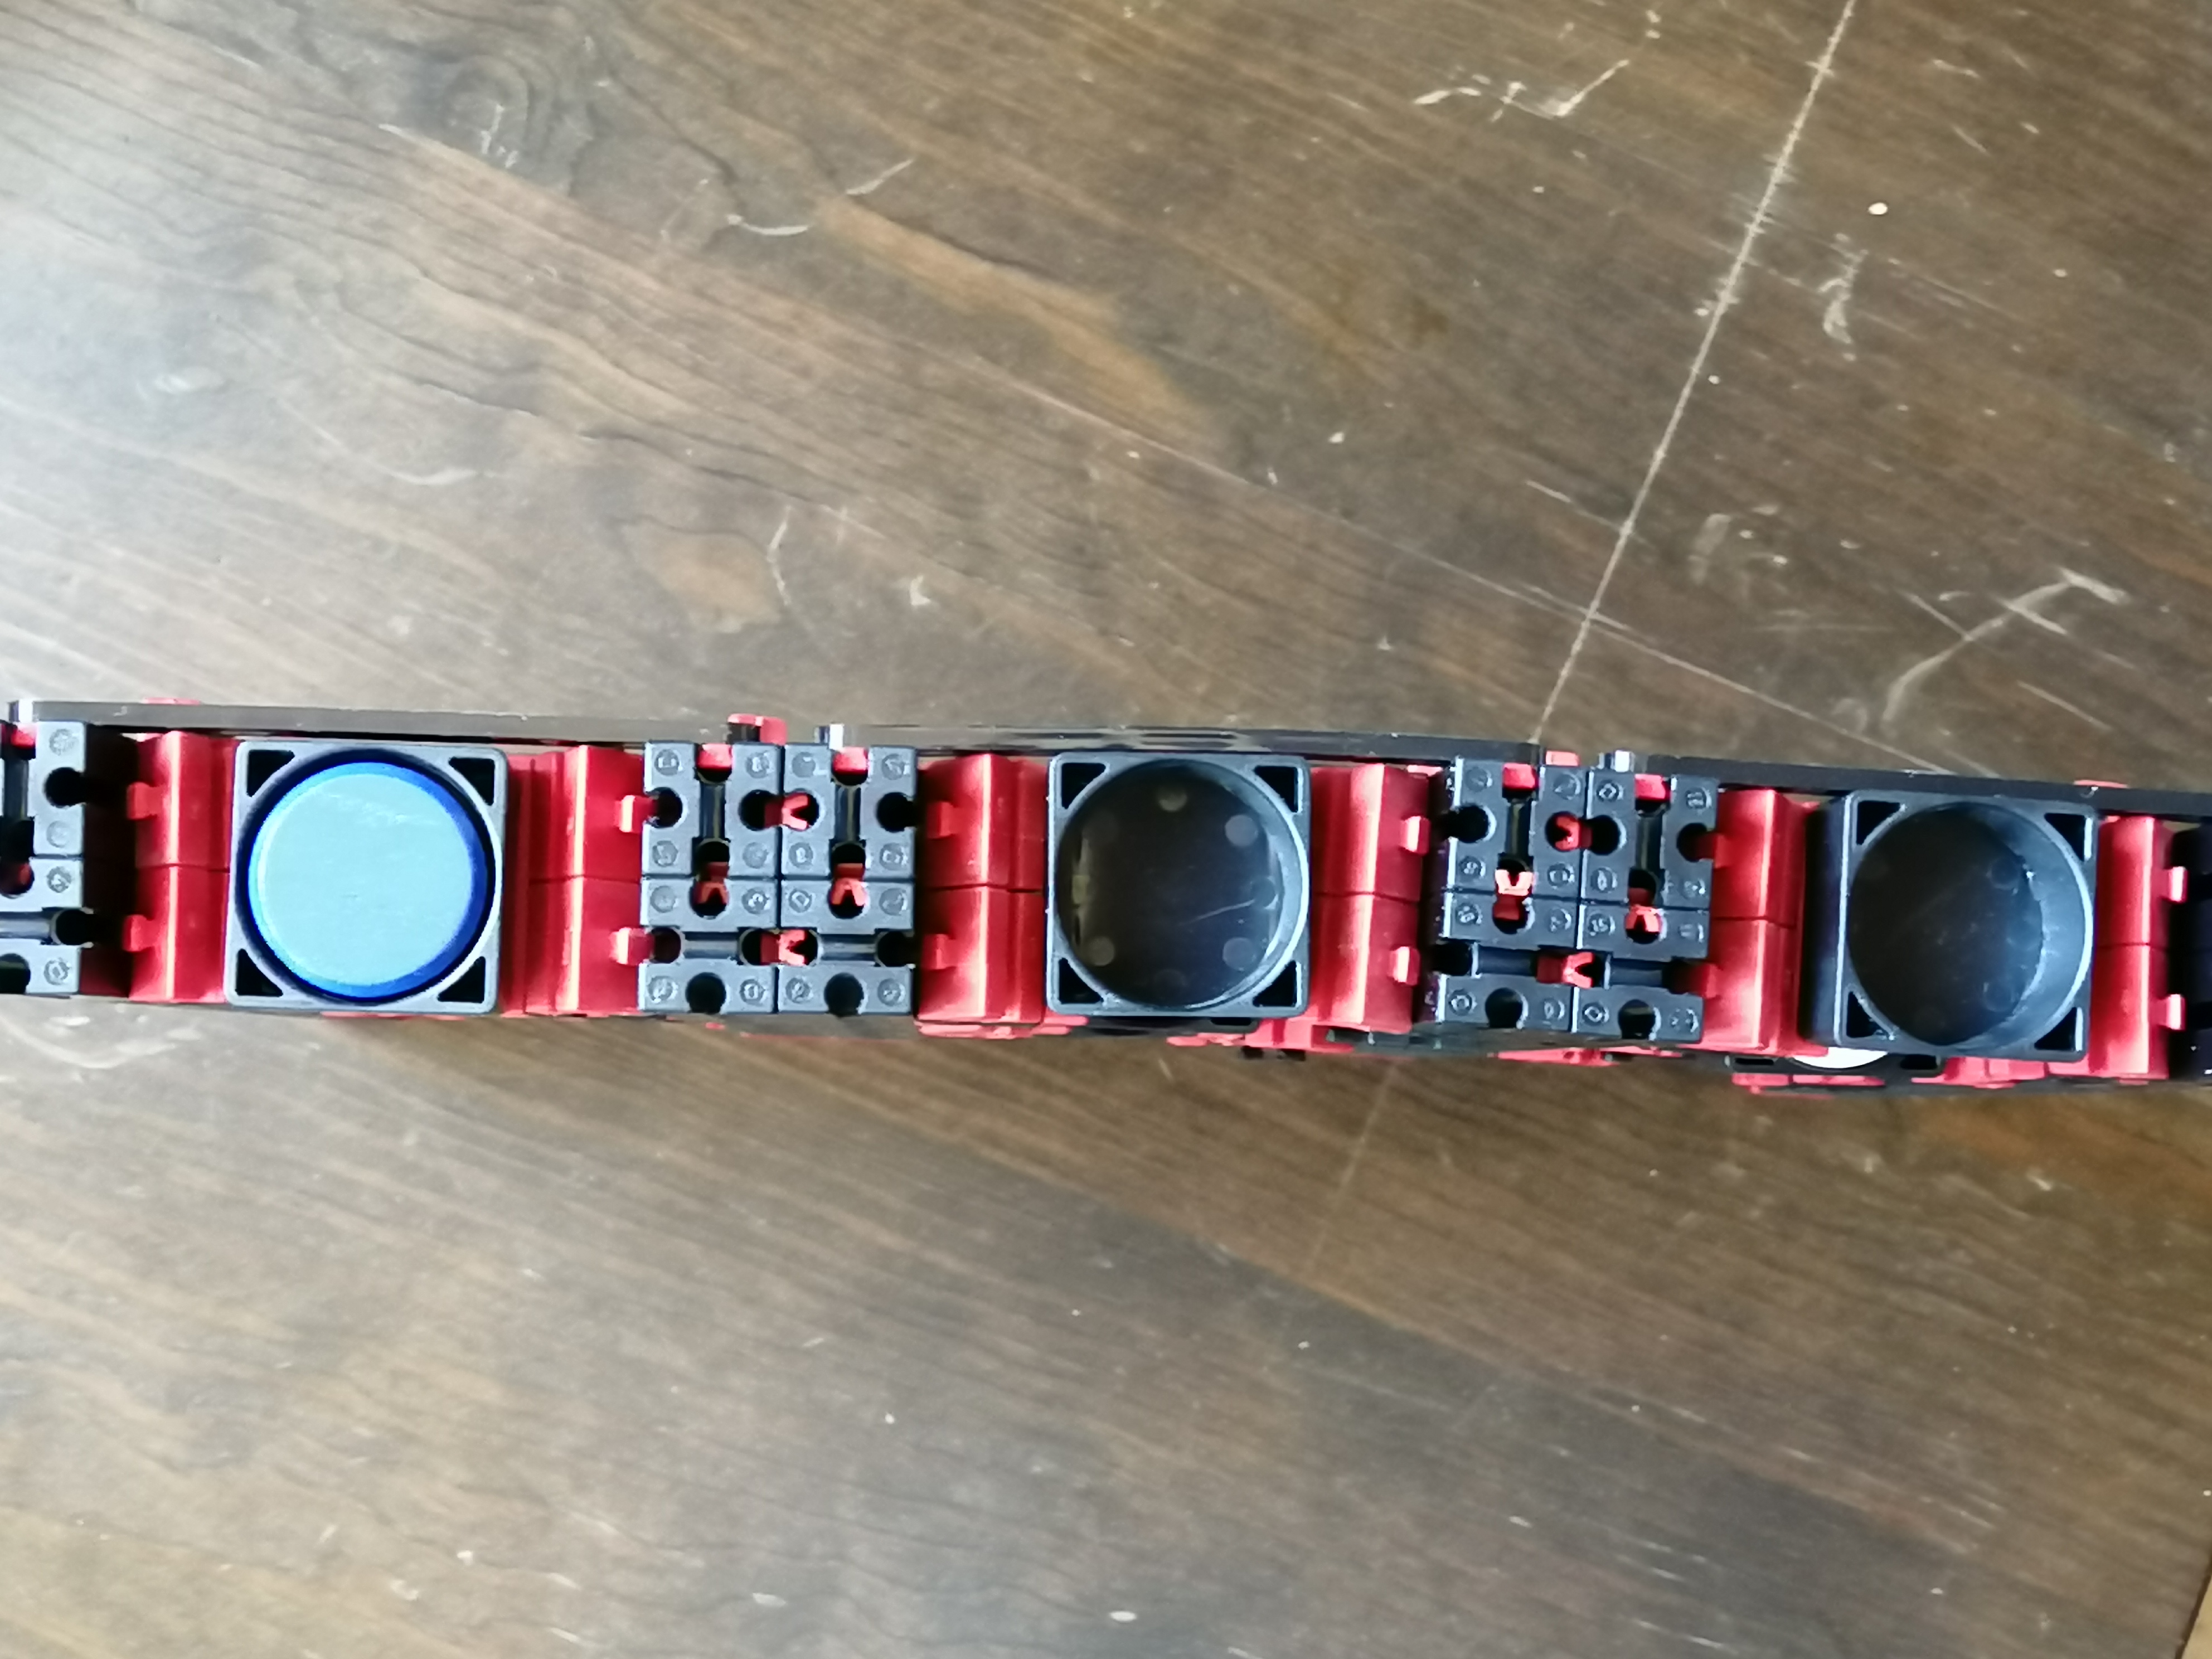Behaelter: (230, 744, 507, 1009), (1815, 793, 2074, 1066), (1042, 755, 1301, 1025)
WerkStueck: (249, 772, 479, 988)
